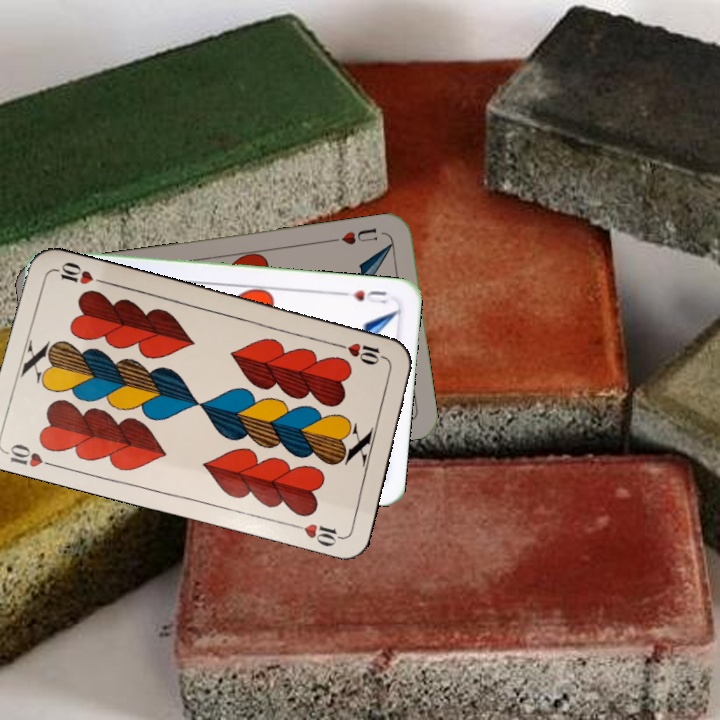H10: (3, 439, 62, 471), (332, 338, 390, 367)
HU: (327, 224, 381, 247), (337, 286, 389, 307)
